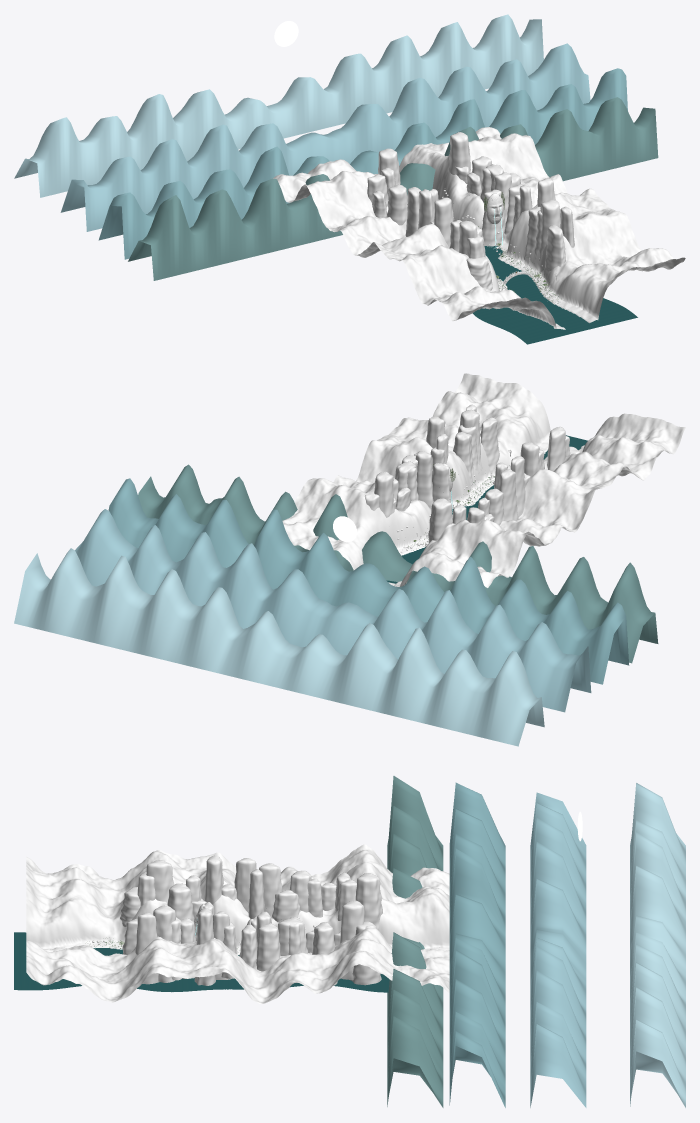
Rendered from valley.glb.
The picture shows the model from 3 angles, top to bottom: view 1: azimuth 30°, elevation 25°; view 2: azimuth 150°, elevation 25°; view 3: azimuth 270°, elevation 25°; orthographic projection. The views are drawn at different scales.
Parts seen in each view (by area): view 1: The eroded gorge | continuous sculpted terrain, Horizon | receding broken mountain range 3, Horizon | receding broken mountain range 2, Horizon | receding broken mountain range 0, Horizon | receding broken mountain range 1, River of remembrance | winding reflective water, Columnar canyon buttress 1.00, Columnar canyon buttress 1.16, Columnar canyon buttress -1.12, Warden 2 | rock-cut mantle, Columnar canyon buttress -1.06, Columnar canyon buttress 1.02 (+5 smaller); view 2: Horizon | receding broken mountain range 3, The eroded gorge | continuous sculpted terrain, Horizon | receding broken mountain range 2, Horizon | receding broken mountain range 1, Horizon | receding broken mountain range 0, Columnar canyon buttress 1.09, Columnar canyon buttress -1.17, Columnar canyon buttress -1.10, Columnar canyon buttress 1.00, Columnar canyon buttress 1.16, Columnar canyon buttress -1.02, Warden 2 | rock-cut mantle (+3 smaller); view 3: The eroded gorge | continuous sculpted terrain, Horizon | receding broken mountain range 2, Horizon | receding broken mountain range 1, Horizon | receding broken mountain range 3, Horizon | receding broken mountain range 0, River of remembrance | winding reflective water, Columnar canyon buttress -1.17, Columnar canyon buttress 1.10, Columnar canyon buttress 1.16, Columnar canyon buttress 1.01, Columnar canyon buttress -1.02, Columnar canyon buttress -1.06 (+14 smaller).
Part boxes in pixels (bbox=[...]): The eroded gorge | continuous sculpted terrain: bbox=[273, 127, 685, 329]; Horizon | receding broken mountain range 3: bbox=[14, 14, 543, 197]; Horizon | receding broken mountain range 2: bbox=[60, 43, 590, 231]; Horizon | receding broken mountain range 0: bbox=[128, 97, 658, 280]; Horizon | receding broken mountain range 1: bbox=[98, 68, 627, 259]; River of remembrance | winding reflective water: bbox=[472, 246, 637, 344]; Columnar canyon buttress 1.00: bbox=[544, 225, 565, 273]; Columnar canyon buttress 1.16: bbox=[448, 132, 470, 174]; Columnar canyon buttress -1.12: bbox=[387, 184, 407, 225]; Warden 2 | rock-cut mantle: bbox=[482, 189, 505, 246]; Columnar canyon buttress -1.06: bbox=[433, 197, 453, 248]; Columnar canyon buttress 1.02: bbox=[539, 200, 560, 260]; Horizon | receding broken mountain range 3: bbox=[14, 548, 544, 746]; The eroded gorge | continuous sculpted terrain: bbox=[282, 373, 685, 587]; Horizon | receding broken mountain range 2: bbox=[75, 509, 591, 712]; Horizon | receding broken mountain range 1: bbox=[108, 478, 629, 684]; Horizon | receding broken mountain range 0: bbox=[138, 464, 658, 663]; Columnar canyon buttress 1.09: bbox=[415, 451, 433, 509]; Columnar canyon buttress -1.17: bbox=[428, 498, 452, 542]; Columnar canyon buttress -1.10: bbox=[498, 469, 518, 521]; Columnar canyon buttress 1.00: bbox=[480, 417, 499, 470]; Columnar canyon buttress 1.16: bbox=[374, 471, 394, 517]; Columnar canyon buttress -1.02: bbox=[547, 426, 565, 471]; Warden 2 | rock-cut mantle: bbox=[432, 463, 452, 516]; The eroded gorge | continuous sculpted terrain: bbox=[26, 844, 449, 1003]; Horizon | receding broken mountain range 2: bbox=[530, 792, 586, 1107]; Horizon | receding broken mountain range 1: bbox=[449, 782, 505, 1107]; Horizon | receding broken mountain range 3: bbox=[630, 783, 685, 1107]; Horizon | receding broken mountain range 0: bbox=[387, 776, 443, 1107]; River of remembrance | winding reflective water: bbox=[14, 932, 389, 992]; Columnar canyon buttress -1.17: bbox=[355, 873, 382, 930]; Columnar canyon buttress 1.10: bbox=[256, 923, 280, 971]; Columnar canyon buttress 1.16: bbox=[340, 900, 364, 980]; Columnar canyon buttress 1.01: bbox=[135, 912, 158, 984]; Columnar canyon buttress -1.02: bbox=[146, 860, 174, 902]; Columnar canyon buttress -1.06: bbox=[204, 855, 223, 904].
Bounding box in the file's own units: 500 × 132 × 540.
